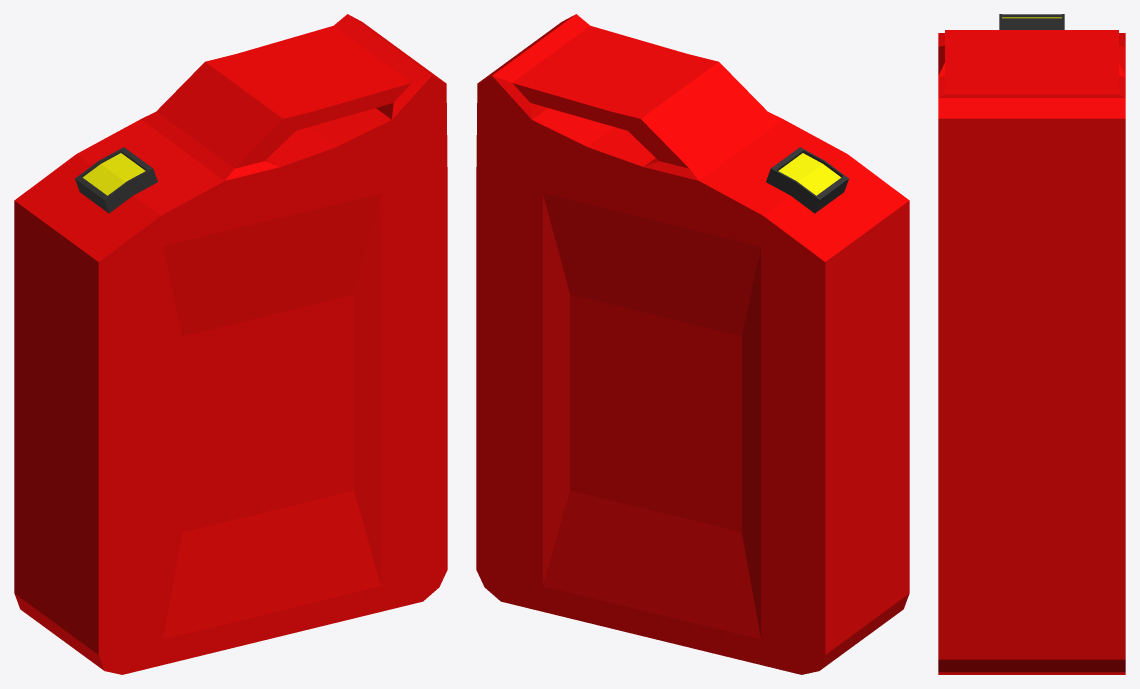
File: gas_can.glb
3 renders of one model, left to right at view 1: azimuth 30°, elevation 25°; view 2: azimuth 150°, elevation 25°; view 3: azimuth 270°, elevation 25°, orthographic. The views are drawn at different scales.
Parts seen in each view (by area): view 1: Cube; view 2: Cube; view 3: Cube.
Part boxes in pixels (bbox=[...]): Cube: bbox=[14, 14, 447, 674]; Cube: bbox=[476, 14, 909, 674]; Cube: bbox=[938, 14, 1125, 674].
Size of the model in its own units: 1.39 by 2 by 0.5839.
